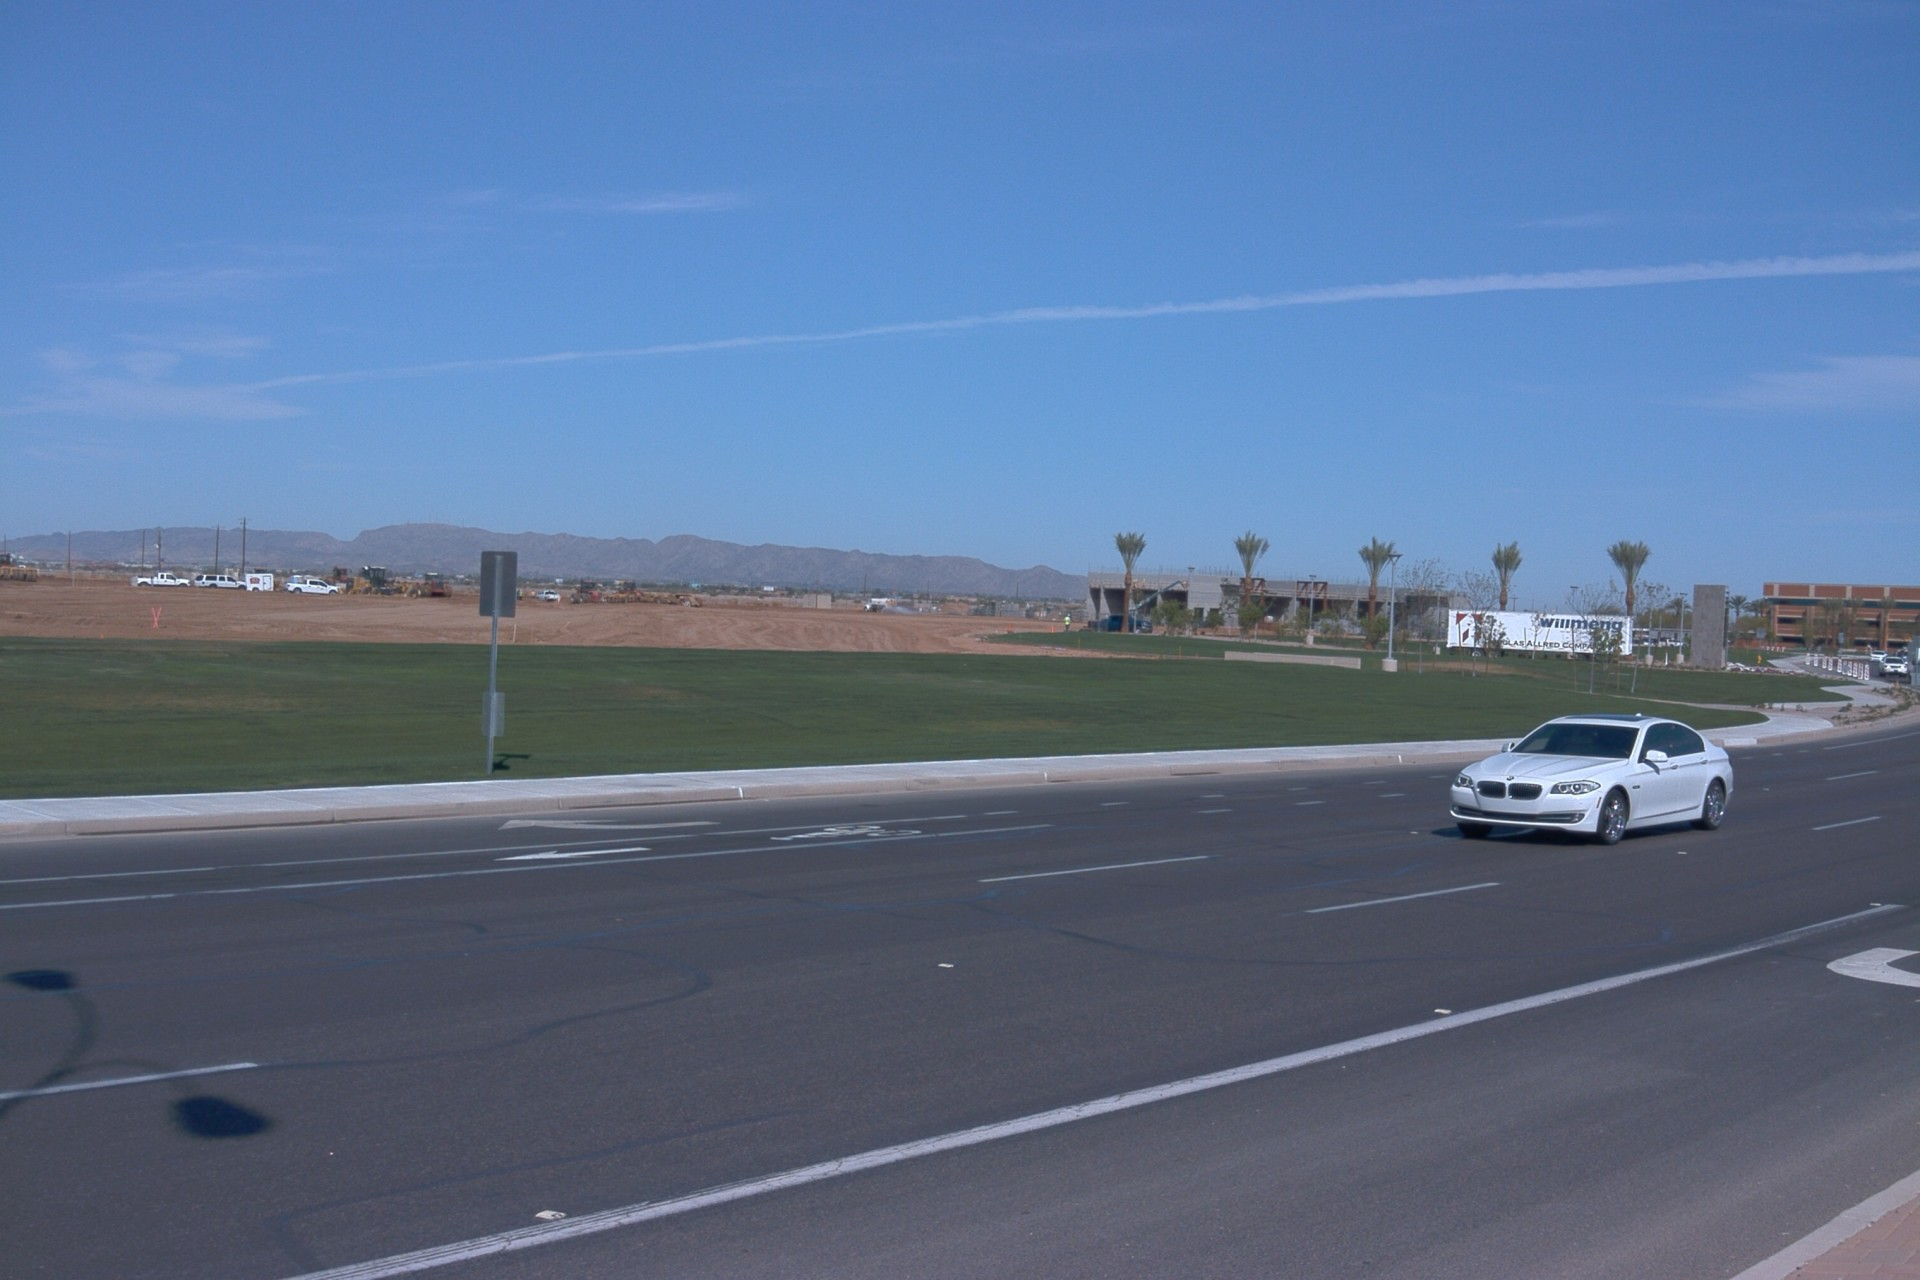TYPE_PEDESTRIAN: (1065, 614, 1073, 633), (528, 588, 537, 600), (517, 588, 524, 600)
TYPE_VEHICLE: (1449, 711, 1734, 847), (1444, 603, 1634, 664), (334, 561, 412, 596), (1131, 576, 1194, 617), (399, 568, 458, 599), (1083, 611, 1150, 631), (286, 574, 340, 593), (191, 574, 249, 591), (138, 574, 194, 591), (859, 591, 902, 611), (250, 569, 282, 591), (1879, 657, 1911, 678), (323, 564, 354, 585), (244, 573, 278, 592), (1907, 641, 1920, 684), (541, 588, 563, 602), (1868, 649, 1887, 663), (18, 565, 25, 569)
